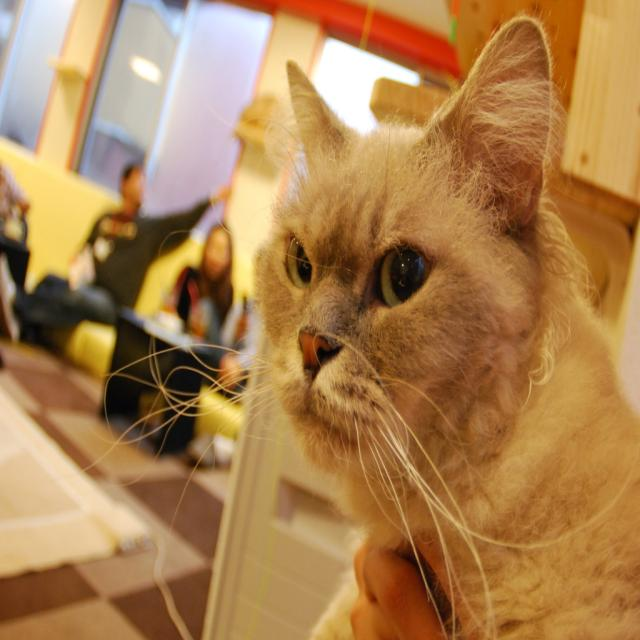Cat: (66, 0, 640, 639)
